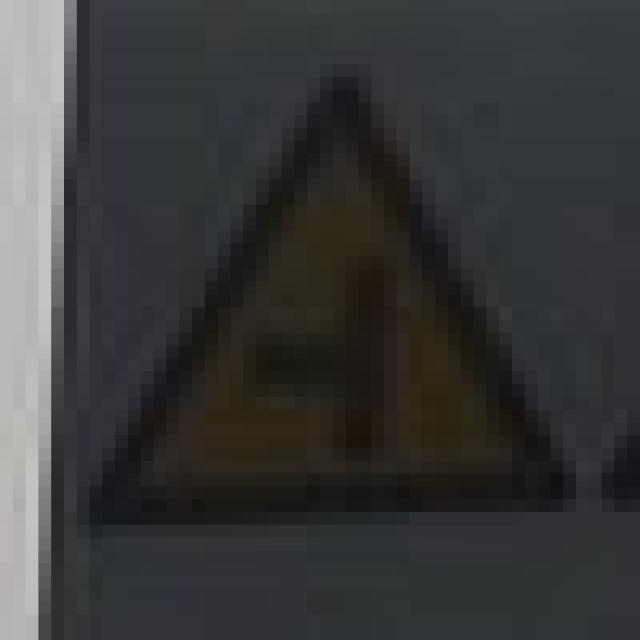SIDE_ROAD_LEFT: (51, 51, 576, 512)
